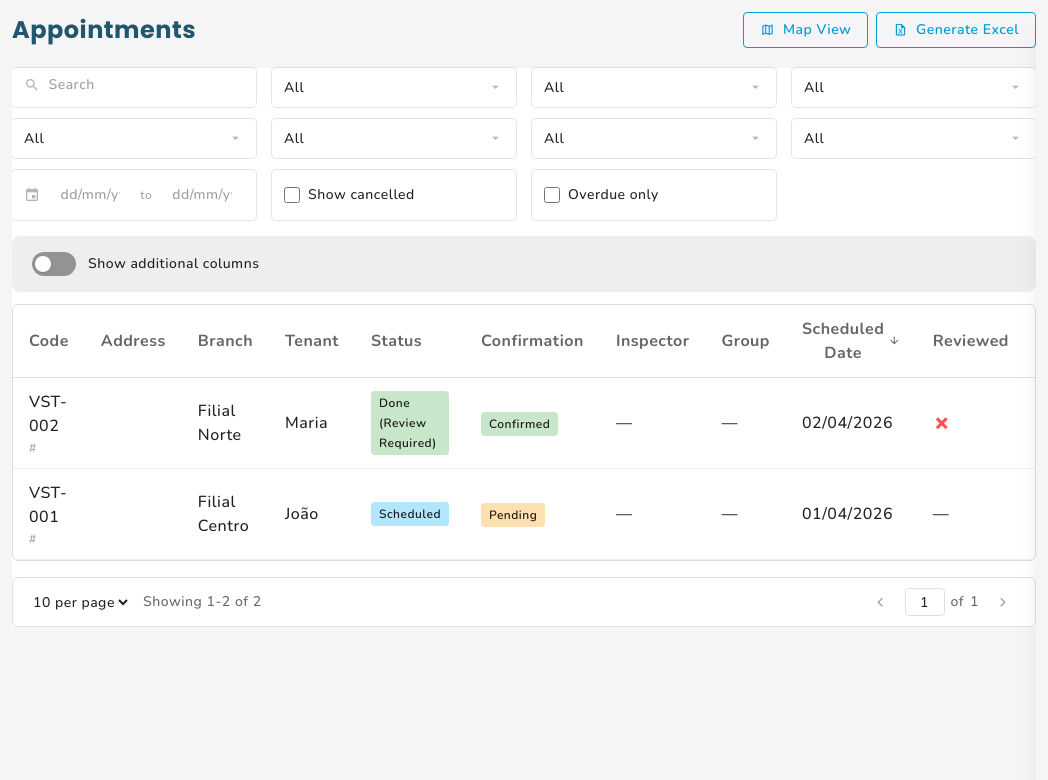
Test: AppointmentListPage › additional columns switch › hides the extra columns until the switch is turned on
expect the text "Property Code" is not shown: met
Click the switch named "Show additional columns" at (54, 264), box [32, 252, 76, 276]
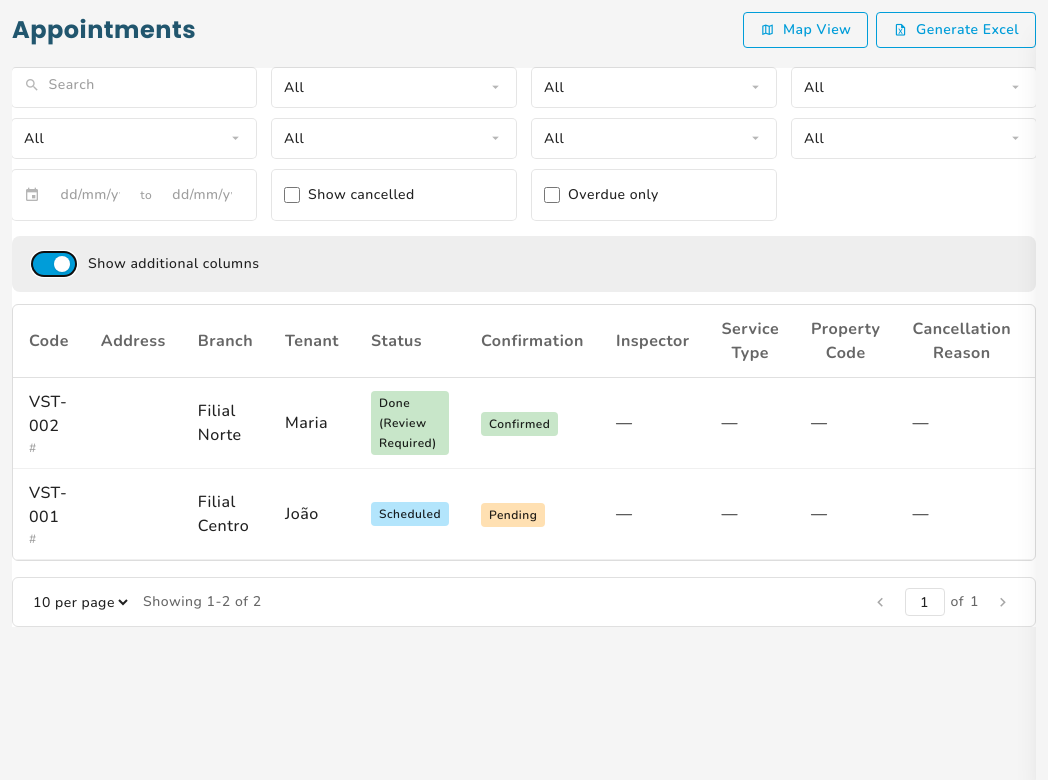
expect the button "Property Code" is shown: met, box [811, 317, 880, 365]
expect the button "Cancellation Reason" is shown: met, box [912, 317, 1011, 365]
expect the button "Service Type" is shown: met, box [722, 317, 779, 365]
